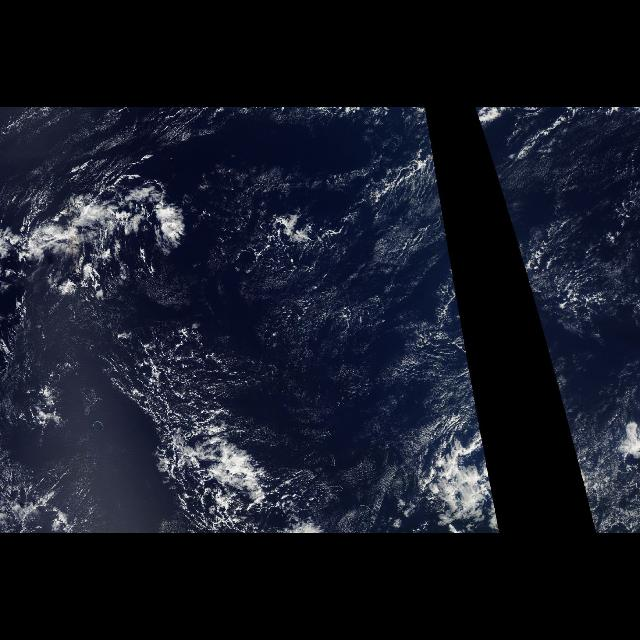Fish: (105, 337, 325, 531), (0, 166, 212, 286)
Sugar: (238, 194, 484, 440), (501, 193, 613, 414)
